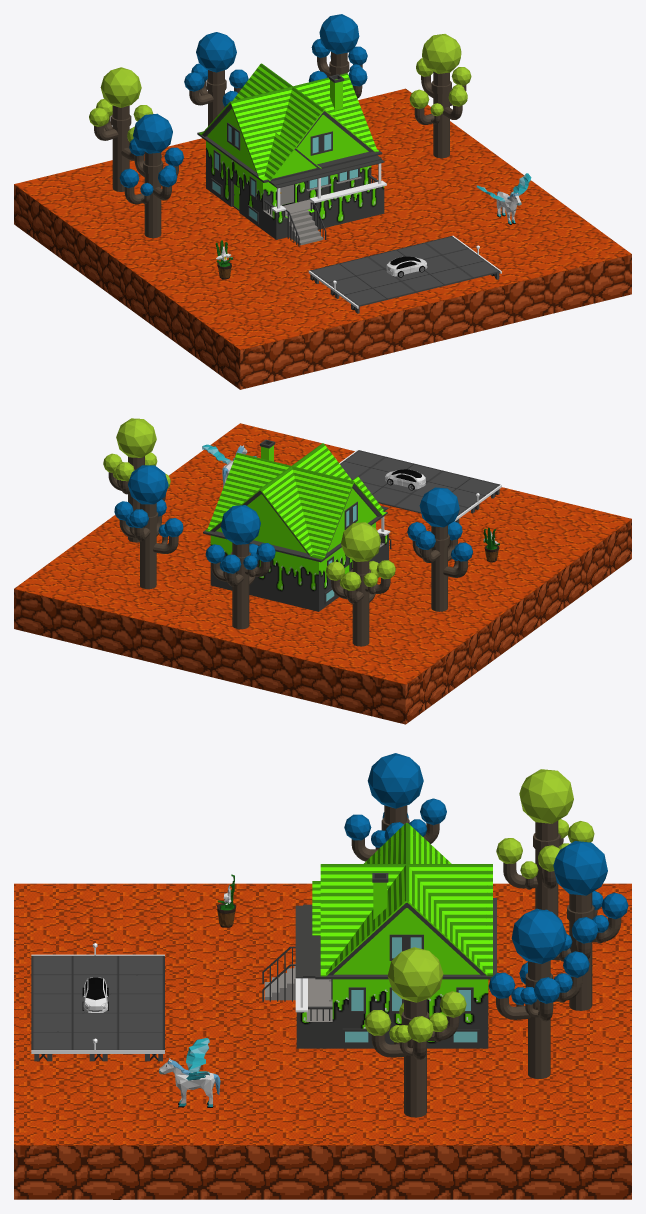
3 views of the same model, one above another, from view 1: azimuth 30°, elevation 25°; view 2: azimuth 150°, elevation 25°; view 3: azimuth 270°, elevation 25° (orthographic). The views are drawn at different scales.
Visible parts, largest first — view 1: Cube.001, Cube.754, ANIMAL_PEGASO, VEHICLES_TESLA; view 2: Cube.001, Cube.754, VEHICLES_TESLA, ANIMAL_PEGASO; view 3: Cube.001, Cube.754, ANIMAL_PEGASO, VEHICLES_TESLA.
Boxes of the visible parts, box(x1,y1,x2,y2) form: Cube.001: box(14, 14, 631, 389); Cube.754: box(197, 63, 386, 246); ANIMAL_PEGASO: box(476, 173, 531, 224); VEHICLES_TESLA: box(386, 256, 427, 277); Cube.001: box(14, 418, 631, 724); Cube.754: box(203, 439, 391, 611); VEHICLES_TESLA: box(385, 469, 425, 490); ANIMAL_PEGASO: box(202, 444, 256, 487); Cube.001: box(14, 753, 631, 1199); Cube.754: box(262, 823, 496, 1048); ANIMAL_PEGASO: box(159, 1038, 220, 1107); VEHICLES_TESLA: box(82, 977, 108, 1012).
Size of the model in its own units: 4000 by 1637 by 4000.
Materials: 34 (5 with a texture image).
